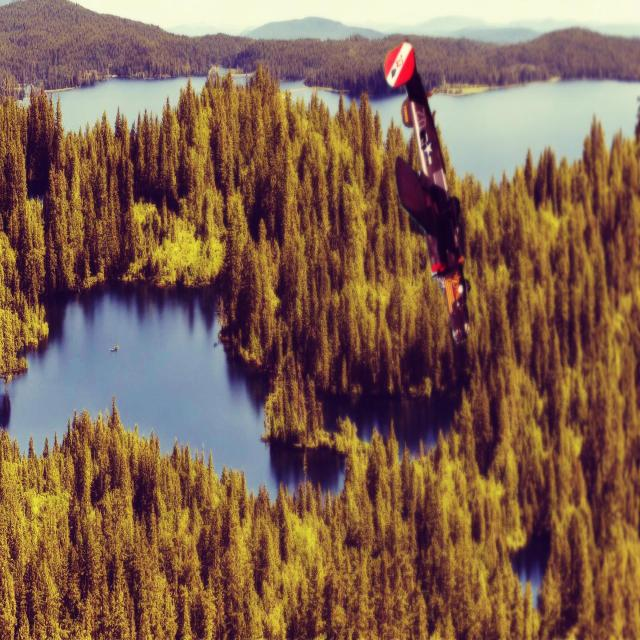airplane: (383, 39, 471, 347)
